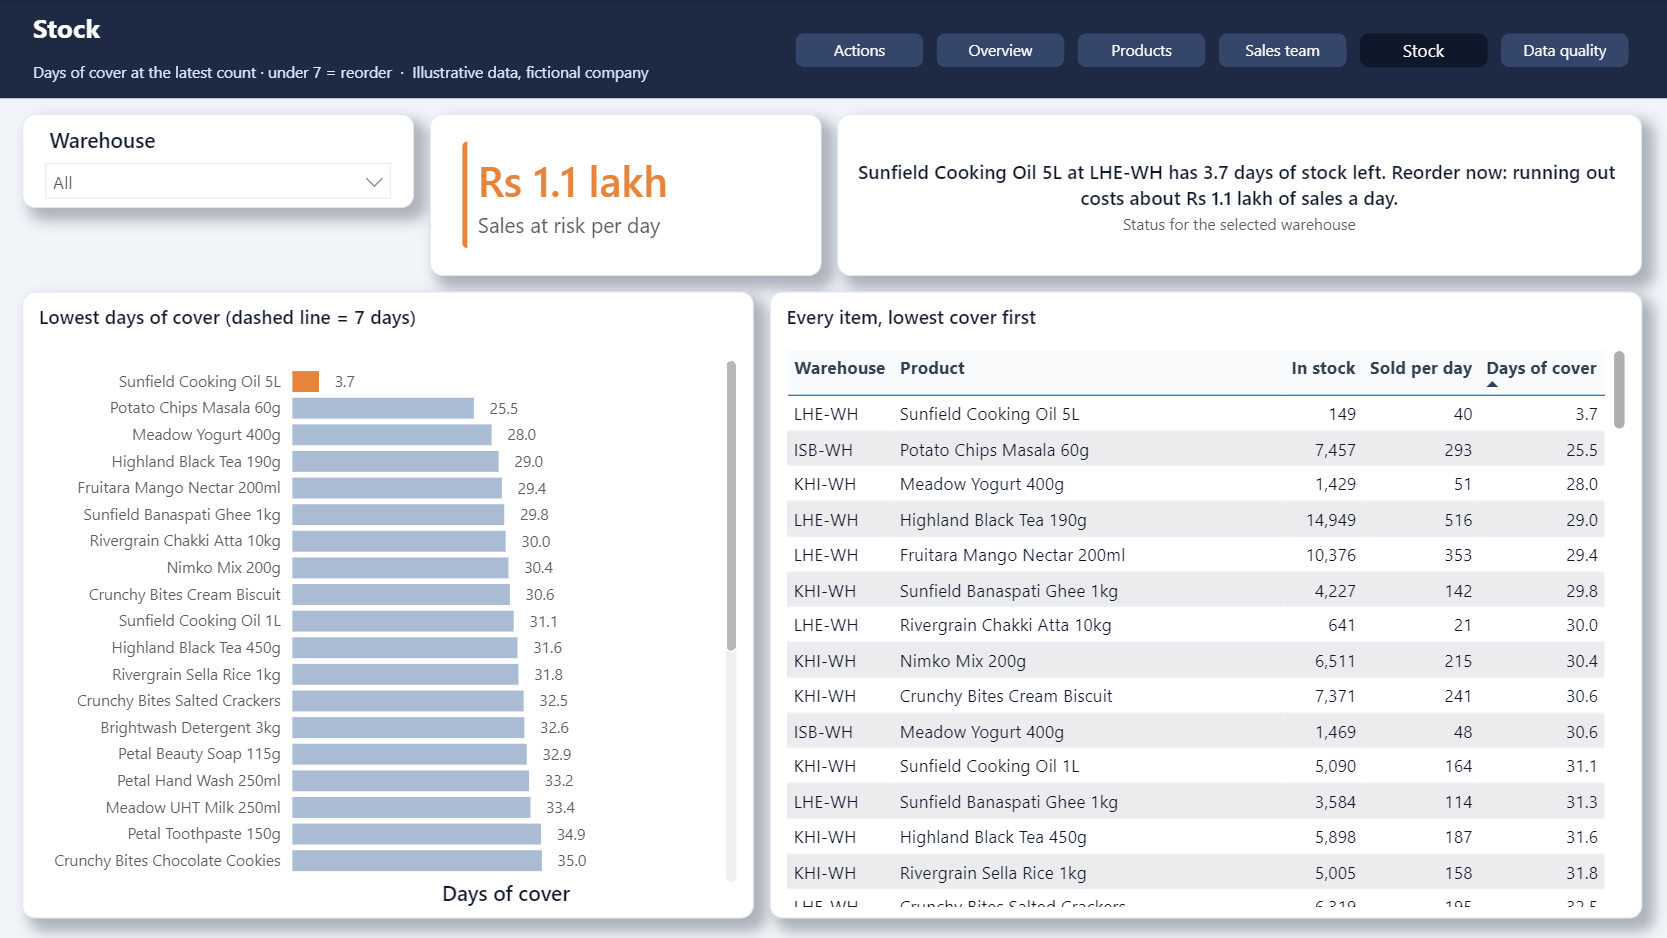

The page's visual inventory and layout, read from the dashboard file:
{"tool":"powerbi","page":{"name":"Stock","canvas":[1280,720],"ordinal":4},"visuals":[{"type":"textbox","box":[0,0,1280,76],"z":1000},{"type":"textbox","box":[16,0,580,46],"z":2000},{"type":"textbox","box":[16,38,580,36],"z":3000},{"type":"pageNavigator","box":[600,18,664,42],"z":4000},{"type":"slicer","fields":{"Values":["mart_stock_cover.warehouse_id"]},"box":[20,88,300,72],"z":5000},{"type":"cardVisual","fields":{"Data":["mart_stock_cover.Stock Risk Text"]},"box":[332,88,300,124],"z":6000},{"type":"card","fields":{"Values":["mart_stock_cover.Stock Status"]},"box":[644,88,616,124],"z":7000},{"type":"clusteredBarChart","title":"Lowest days of cover (dashed line = 7 days)","fields":{"Category":["mart_stock_cover.product_name"],"Y":["mart_stock_cover.Days of Cover"]},"box":[20,224,560,480],"z":8000},{"type":"tableEx","title":"Every item, lowest cover first","fields":{"Values":["mart_stock_cover.warehouse_id","mart_stock_cover.product_name","mart_stock_cover.closing_qty","mart_stock_cover.avg_units_per_day_28d","mart_stock_cover.Days of Cover"]},"box":[592,224,668,480],"z":9000}]}

Visuals, with their boxes in screenshot pixels (x1, y1, x2, y2), scaled from the page's 1280x720 canvas onto the 1667x938 screenshot:
textbox: 0 0 1666 99
textbox: 21 0 776 60
textbox: 21 50 776 96
pageNavigator: 781 23 1646 78
slicer - mart_stock_cover.warehouse_id: 26 115 417 208
cardVisual - mart_stock_cover.Stock Risk Text: 432 115 823 276
card - mart_stock_cover.Stock Status: 839 115 1641 276
"Lowest days of cover (dashed line = 7 days)" clusteredBarChart: 26 292 755 917
"Every item, lowest cover first" tableEx: 771 292 1641 917
